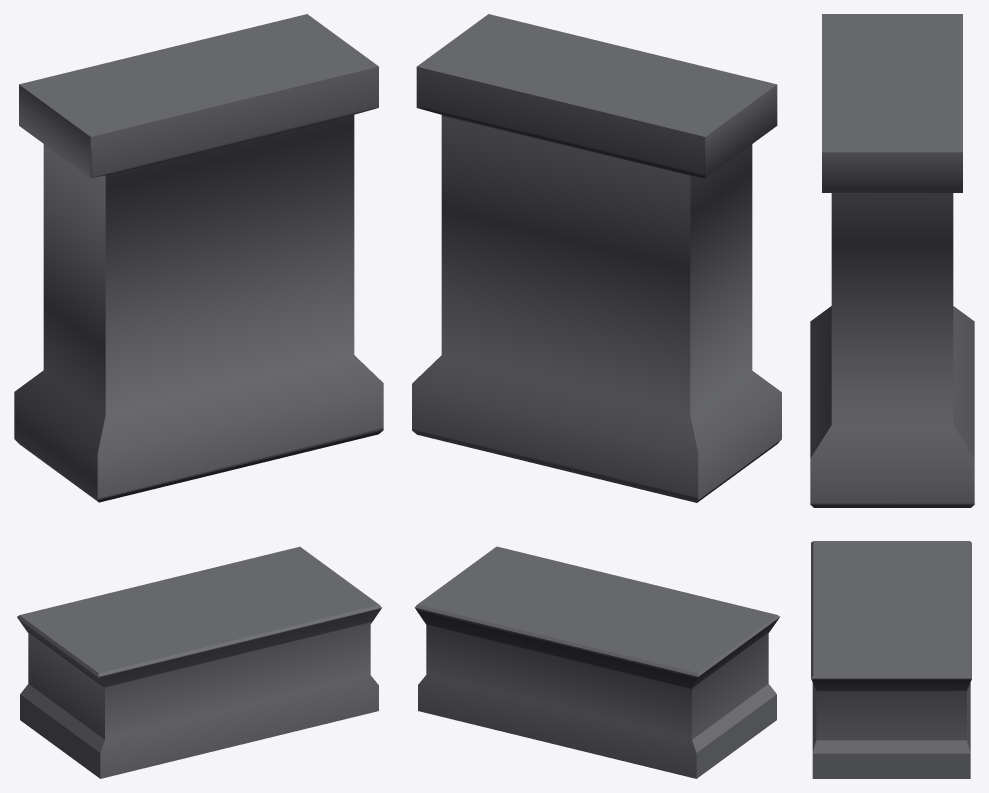
The model's file is Cooking_Area_Unwrapped.FBX.
3 renders of one model, left to right at view 1: azimuth 30°, elevation 25°; view 2: azimuth 150°, elevation 25°; view 3: azimuth 270°, elevation 25°, orthographic.
Parts seen in each view (by area): view 1: Cooking_Area_1; view 2: Cooking_Area_1; view 3: Cooking_Area_1.
Part boxes in pixels (x1,y1,x2,y2): Cooking_Area_1: [14, 14, 383, 778]; Cooking_Area_1: [412, 14, 781, 778]; Cooking_Area_1: [810, 14, 974, 778].
Bounding box in the file's own units: 2.17 × 4.6 × 1.09.
